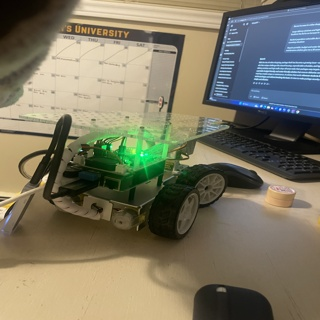vehicle: (39, 109, 226, 239)
